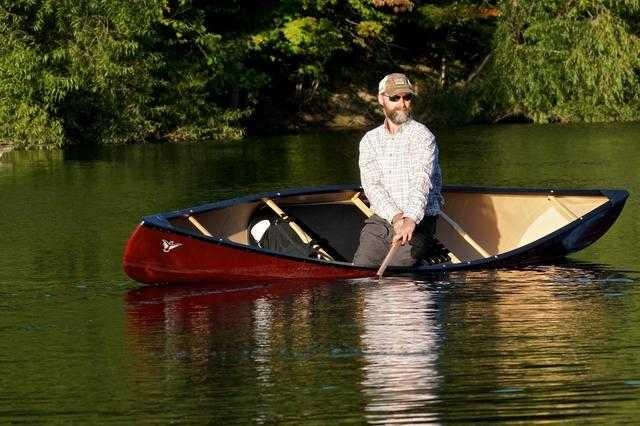kayak: (124, 182, 627, 284)
